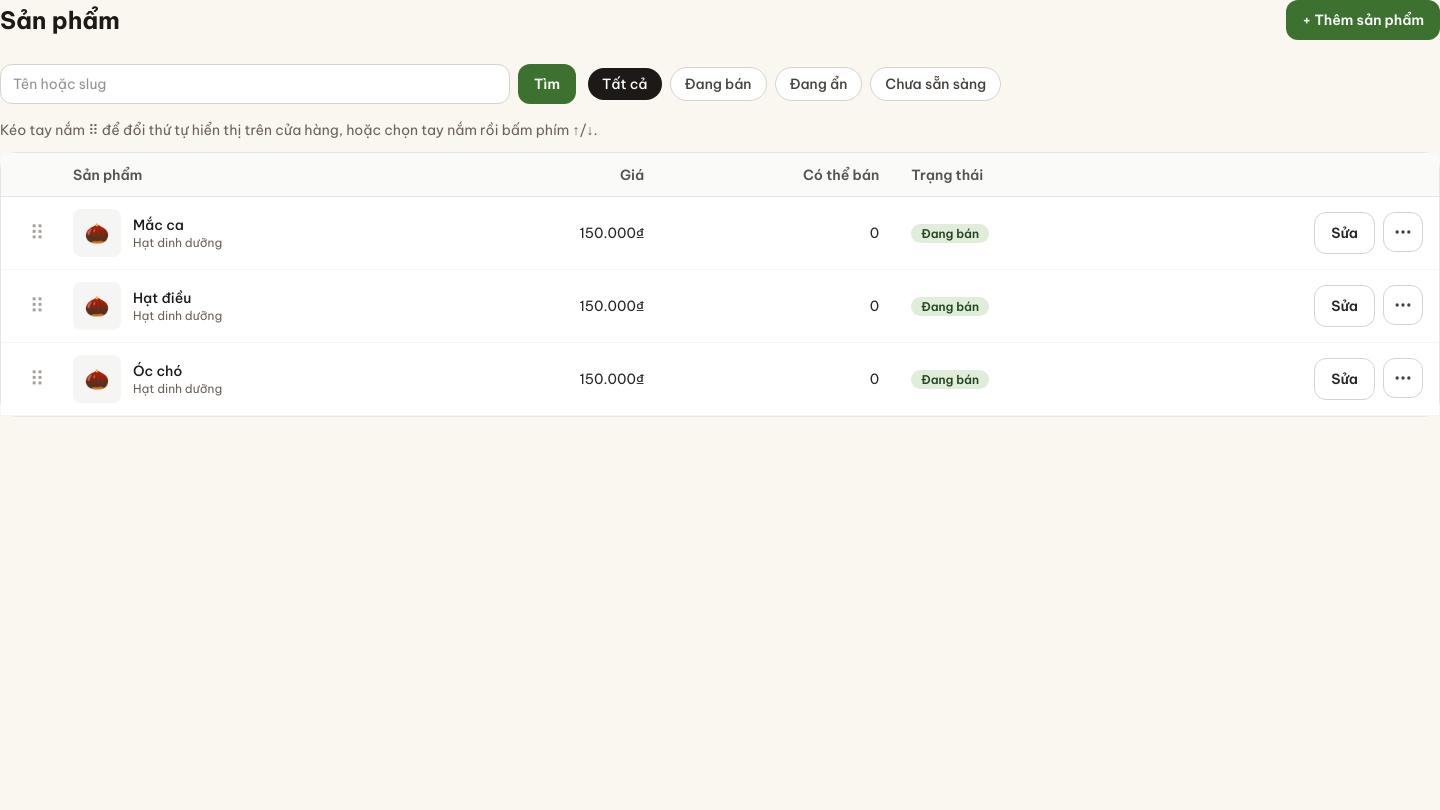
Test case: products page › offers to hide a product that was ordered instead of deleting it
Expected: the table is shown, [1,153,1439,416]
What coordinates should you click on to do the following:
click the button named "Thao tác khác với Hạt điều"
I would click on:
 (1403, 305)
Its box is [1383,285,1423,325].
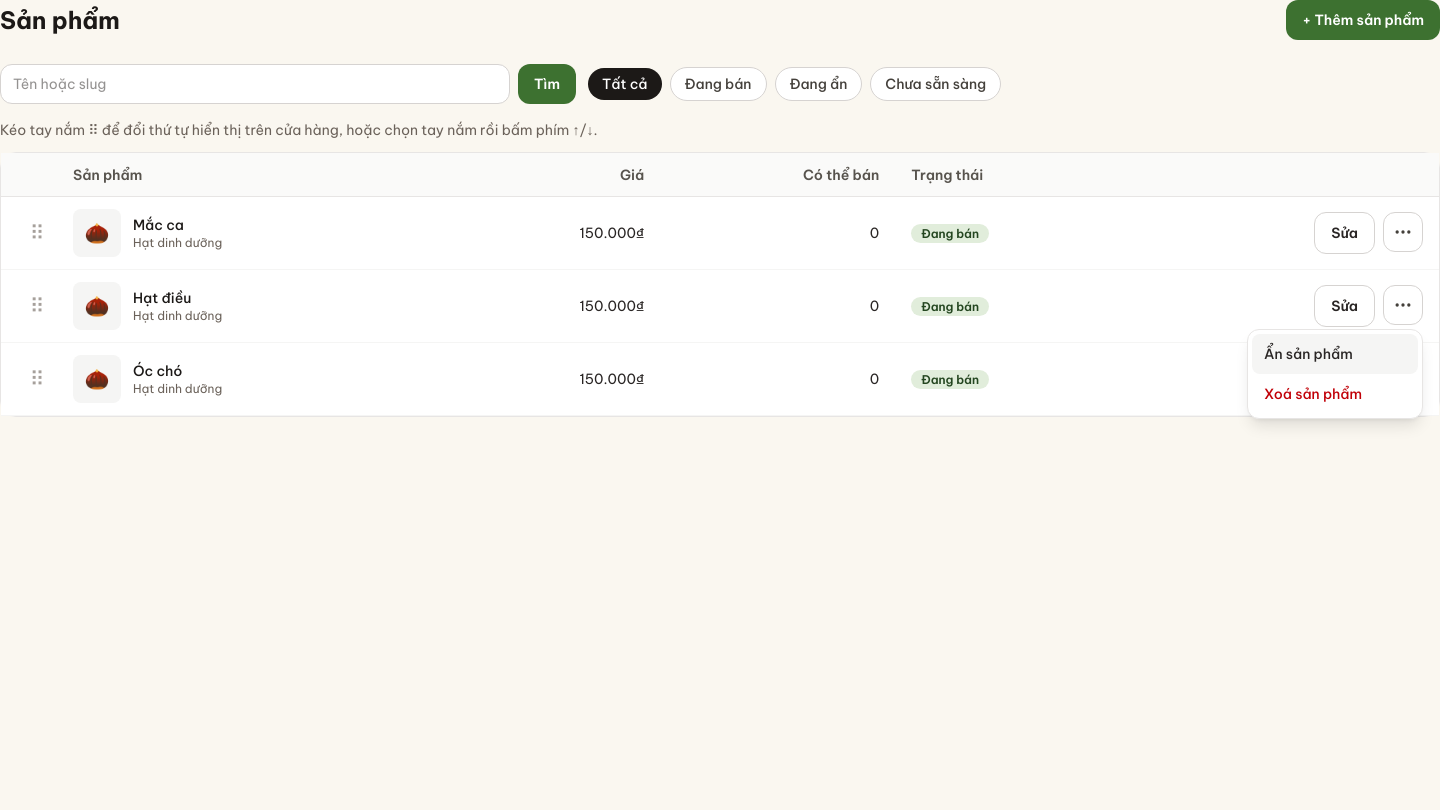
What coordinates should you click on to do the following:
click the menu item "Xoá sản phẩm"
I would click on:
 (1335, 394)
Its box is [1252,374,1418,414].
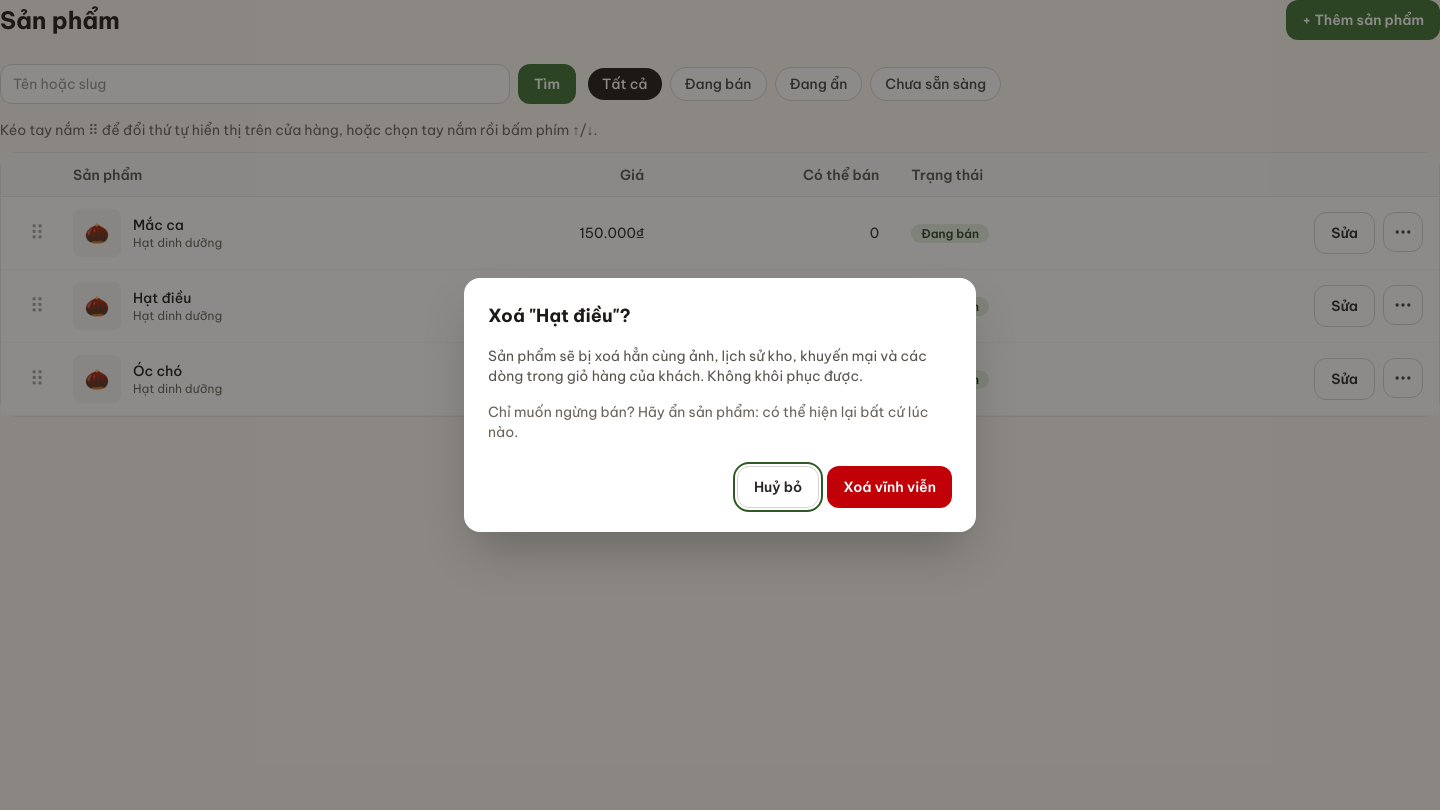
What coordinates should you click on to do the following:
click the button "Xoá vĩnh viễn"
I would click on:
 (890, 487)
Its box is [827,466,952,508].
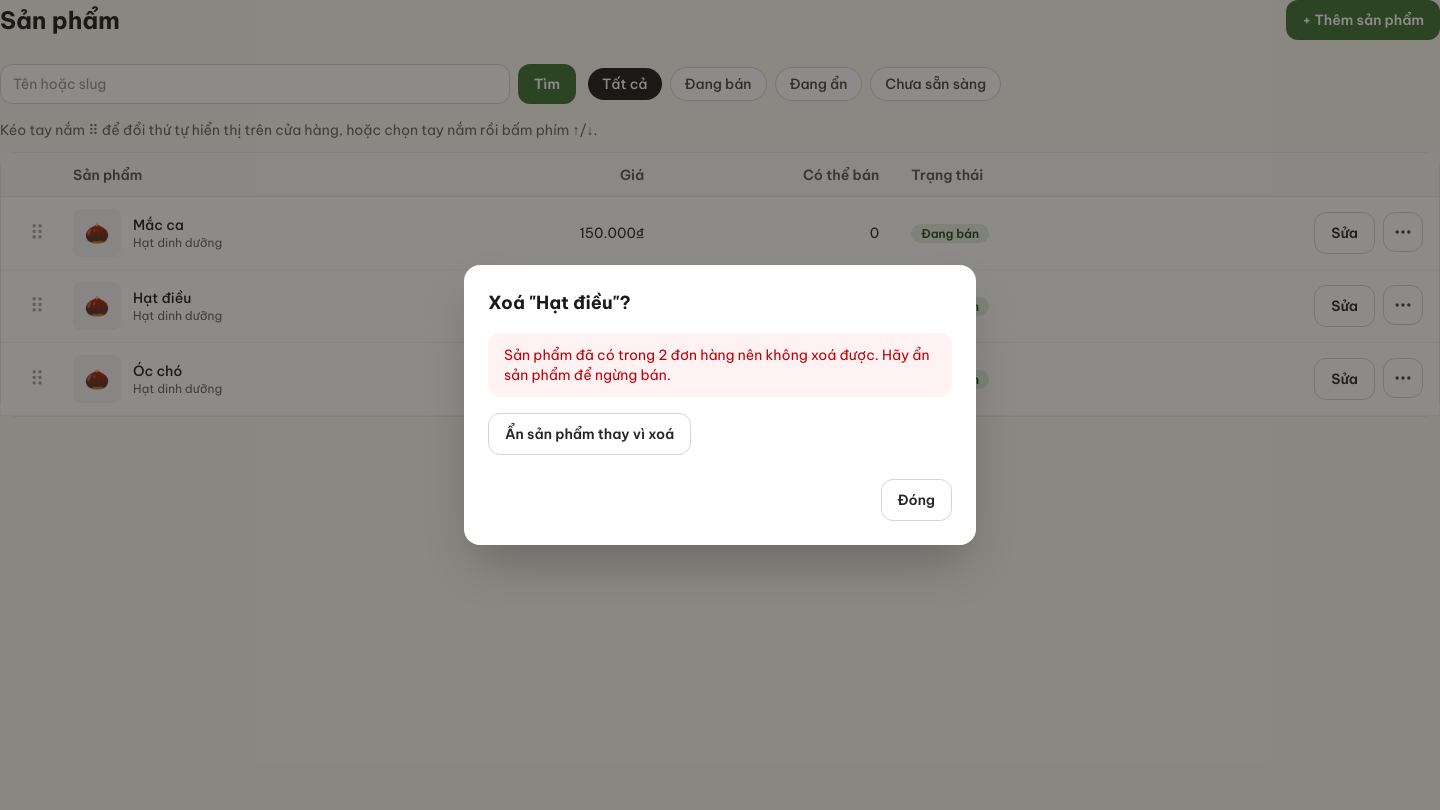
Result: the message shows "2 đơn hàng" at [504,346,930,384]
Result: the button "Xoá vĩnh viễn" is gone
What coordinates should you click on to do the following:
click the button "Ẩn sản phẩm thay vì xoá"
I would click on:
 (590, 434)
Its box is [488,413,691,455].
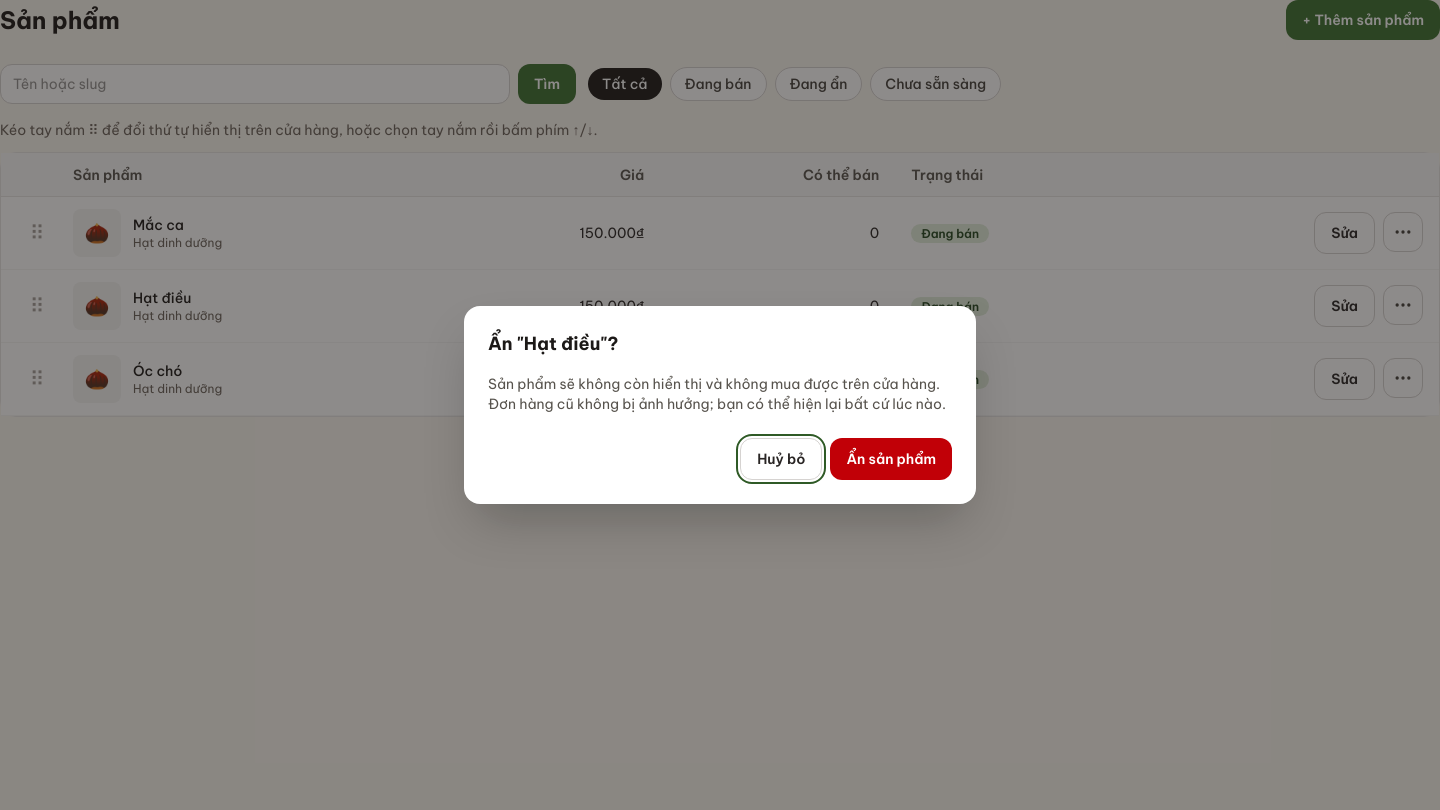
Result: the dialog shows "Ẩn \"Hạt điều\"?" at [488,332,618,355]
